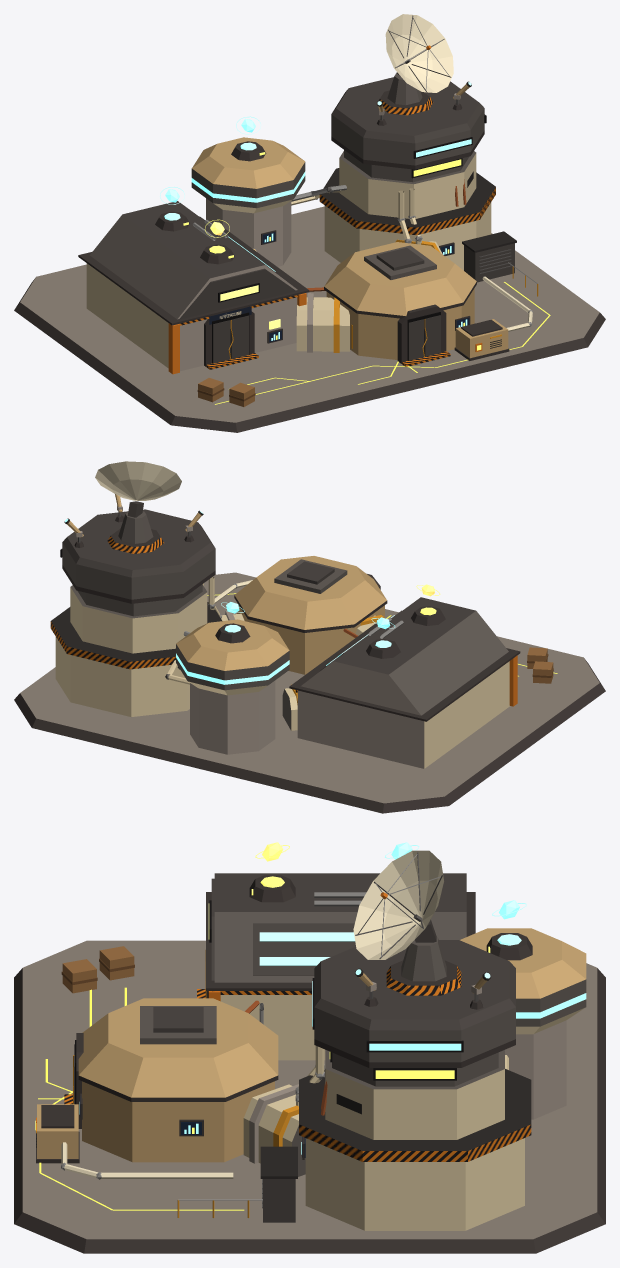
File: budova-vyzkumne-stredisko.glb
3 renders of one model, top to bottom at view 1: azimuth 30°, elevation 25°; view 2: azimuth 150°, elevation 25°; view 3: azimuth 270°, elevation 25°, orthographic. The views are drawn at different scales.
Parts seen in each view (by area): view 1: budova-vyzkumne-stredisko; view 2: budova-vyzkumne-stredisko; view 3: budova-vyzkumne-stredisko.
Boxes of the visible parts, box(x1,y1,x2,y2) form: budova-vyzkumne-stredisko: box(14, 14, 605, 432); budova-vyzkumne-stredisko: box(14, 461, 605, 813); budova-vyzkumne-stredisko: box(14, 842, 605, 1253).
Size of the model in its own units: 24.75 by 12.7 by 20.25.
27 materials, 2 textured.
